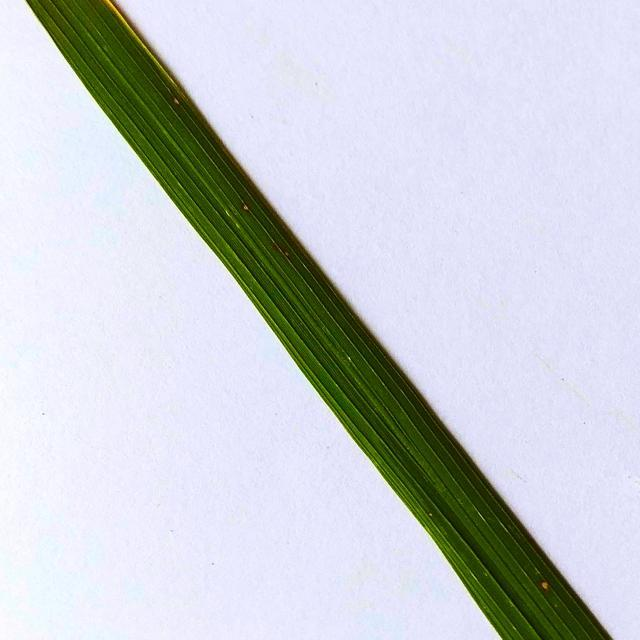Blast: (534, 574, 554, 600), (170, 92, 187, 112), (239, 195, 250, 214)
